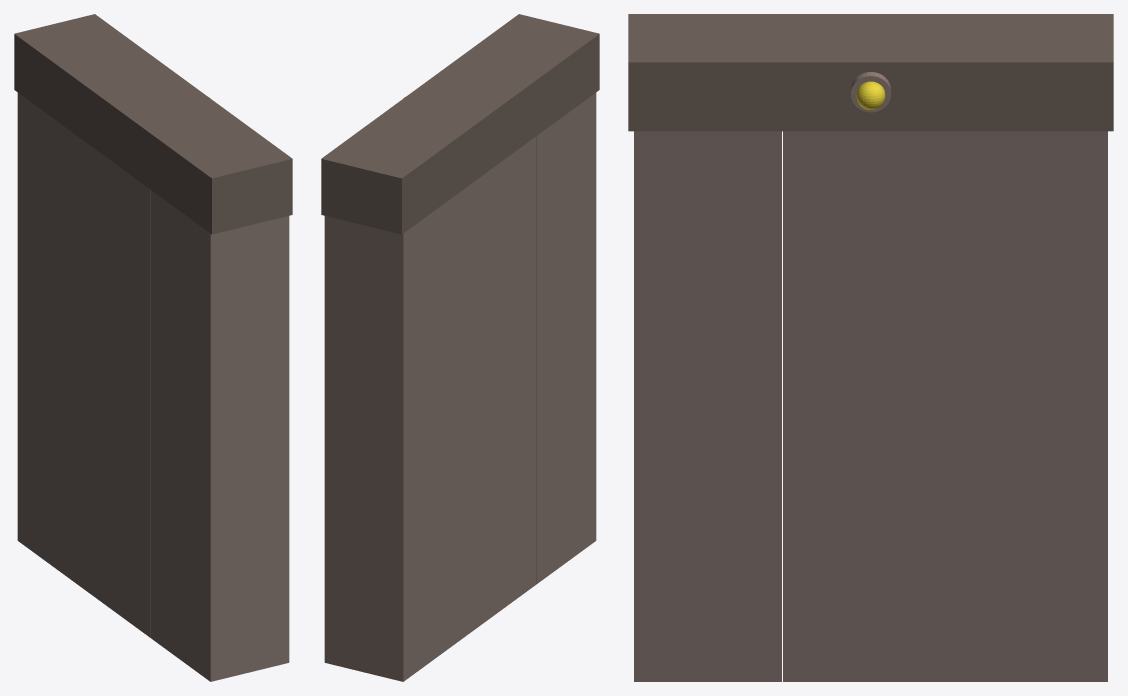
The model's file is drzwi1 animacja.glb.
3 renders of one model, left to right at view 1: azimuth 30°, elevation 25°; view 2: azimuth 150°, elevation 25°; view 3: azimuth 270°, elevation 25°, orthographic. The views are drawn at different scales.
Parts seen in each view (by area): view 1: Cube.002, Cube.003, Cube; view 2: Cube.003, Cube, Cube.002; view 3: Cube.003, Cube.002, Cube, Circle.
Boxes of the visible parts, <box> form: Cube.002: <box>150,190,289,681</box>; Cube.003: <box>17,92,150,637</box>; Cube: <box>14,14,292,234</box>; Cube.003: <box>324,137,535,681</box>; Cube: <box>321,14,599,234</box>; Cube.002: <box>536,92,596,584</box>; Cube.003: <box>783,131,1107,681</box>; Cube.002: <box>634,131,781,681</box>; Cube: <box>628,14,1113,131</box>; Circle: <box>851,72,890,112</box>.
Bounding box in the file's own units: 0.8993 × 4.35 × 3.08.
